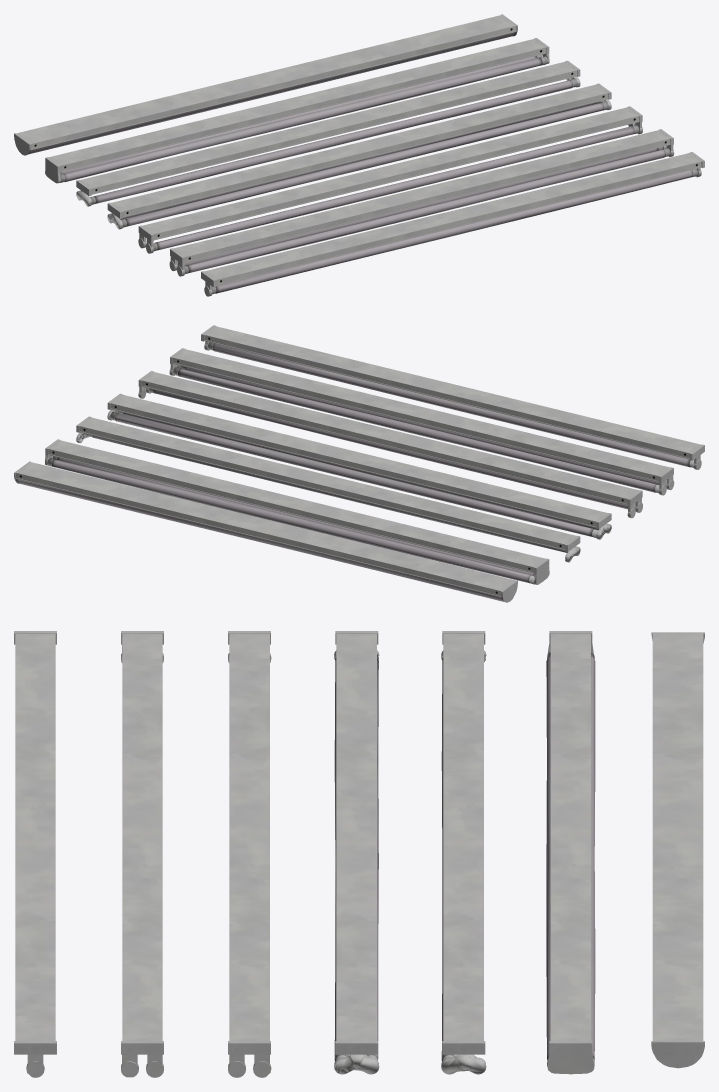
File: mounted_fluorescent_lights.glb
3 views of the same model, one above another, from view 1: azimuth 30°, elevation 25°; view 2: azimuth 150°, elevation 25°; view 3: azimuth 270°, elevation 25° (orthographic). The views are drawn at different scales.
Visible parts, largest first — view 1: mounted_fluorescent_lights_a, mounted_fluorescent_lights_a_lo; view 2: mounted_fluorescent_lights_a, mounted_fluorescent_lights_a_lo; view 3: mounted_fluorescent_lights_a, mounted_fluorescent_lights_a_lo.
Boxes of the visible parts, x1,y1,x2,y2 form: mounted_fluorescent_lights_a: (14, 14, 702, 296); mounted_fluorescent_lights_a_lo: (14, 26, 704, 293); mounted_fluorescent_lights_a: (14, 326, 701, 602); mounted_fluorescent_lights_a_lo: (15, 325, 704, 600); mounted_fluorescent_lights_a: (14, 632, 704, 1077); mounted_fluorescent_lights_a_lo: (14, 631, 704, 1073).
Size of the model in its own units: 0.9122 by 0.0354 by 0.6454.
Materials: 2 (2 with a texture image).
